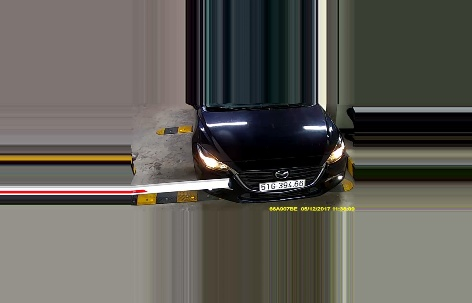plate: (257, 176, 304, 193)
